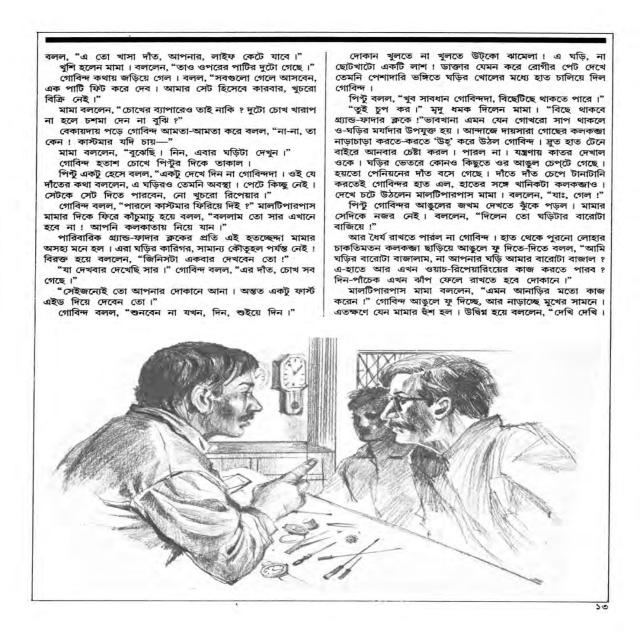image: (36, 332, 600, 592)
page number: (593, 603, 610, 610)
paragraph: (333, 104, 607, 201), (332, 231, 607, 285), (334, 50, 607, 93), (331, 285, 607, 318), (43, 72, 318, 105), (43, 168, 318, 201), (42, 232, 317, 265), (331, 199, 607, 231), (42, 200, 317, 232), (43, 104, 318, 126), (44, 125, 318, 147), (43, 264, 317, 286), (42, 285, 316, 307), (347, 93, 605, 105), (43, 51, 304, 62), (58, 62, 316, 73), (57, 147, 292, 159), (56, 307, 296, 318), (58, 157, 252, 169)
